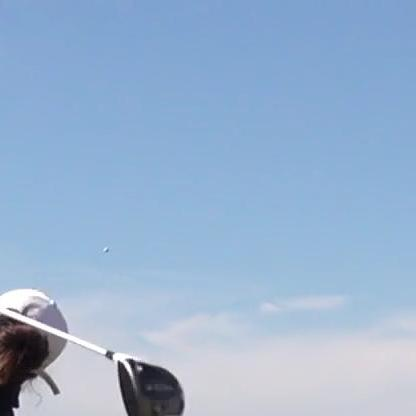golfball: (100, 245, 108, 252)
